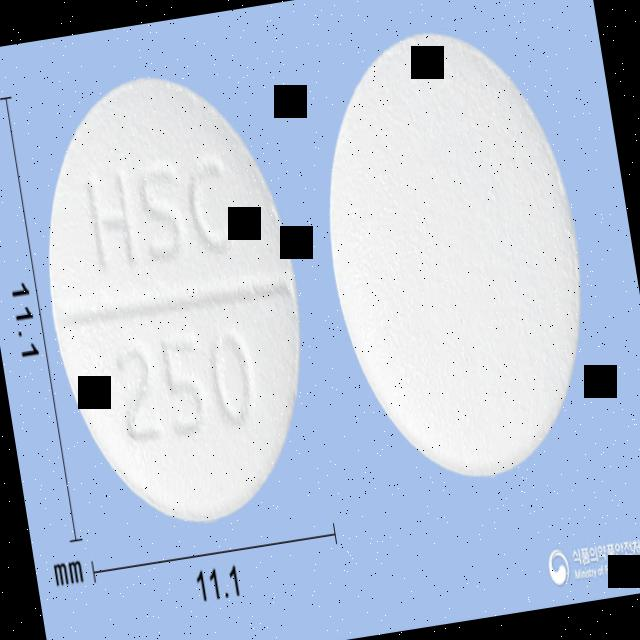Proxacinby Tab: (17, 56, 331, 544)
